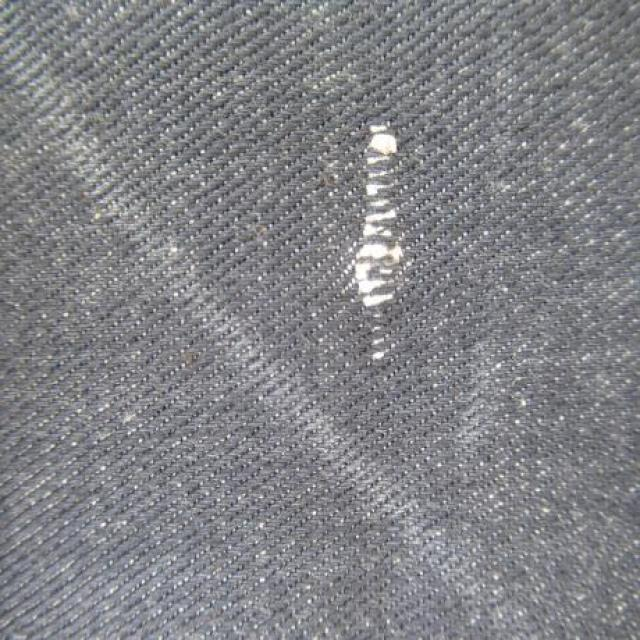stains: (297, 83, 522, 406)
